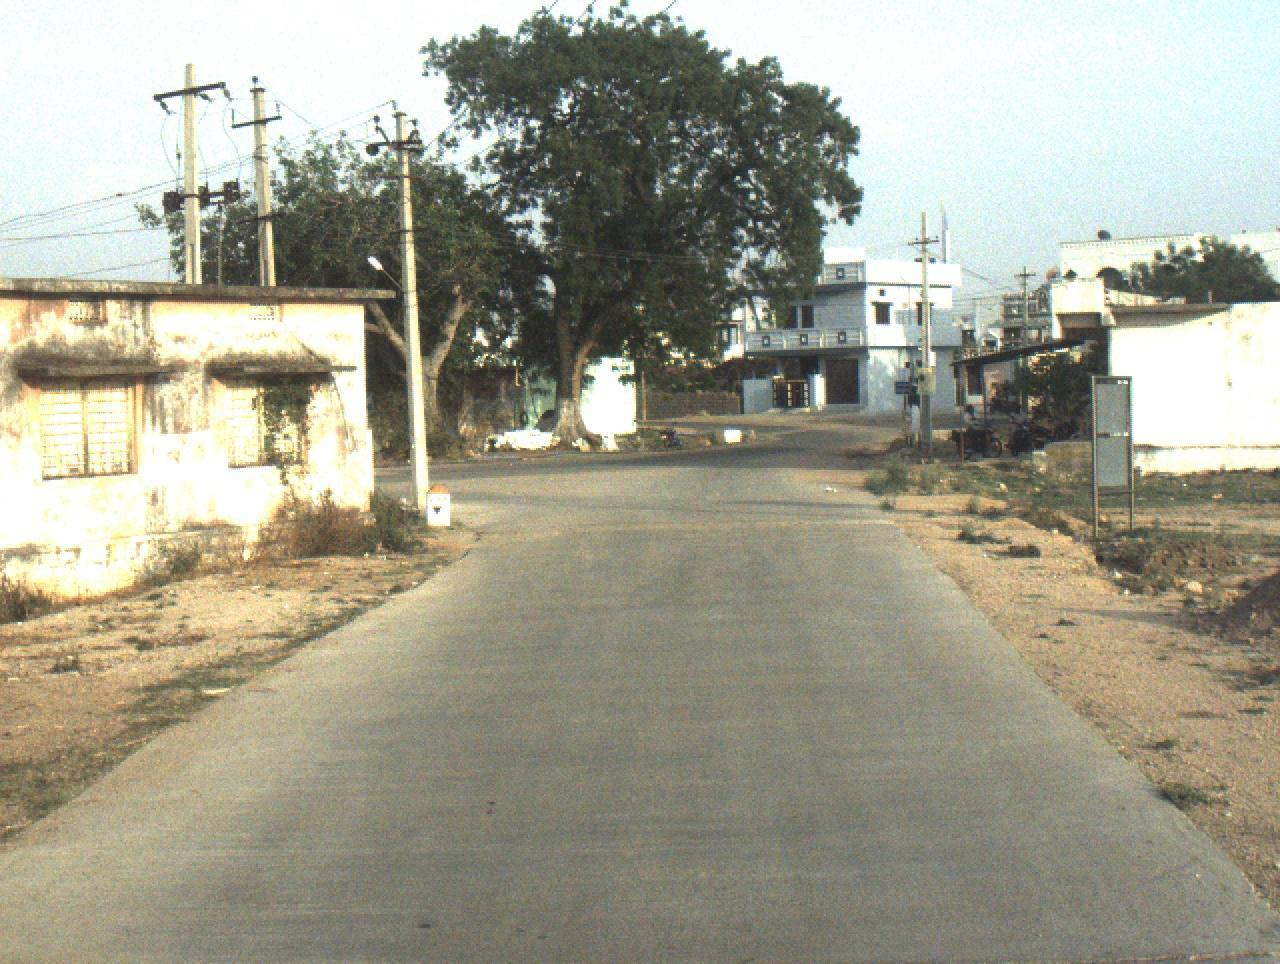off: (5, 41, 1280, 964)
